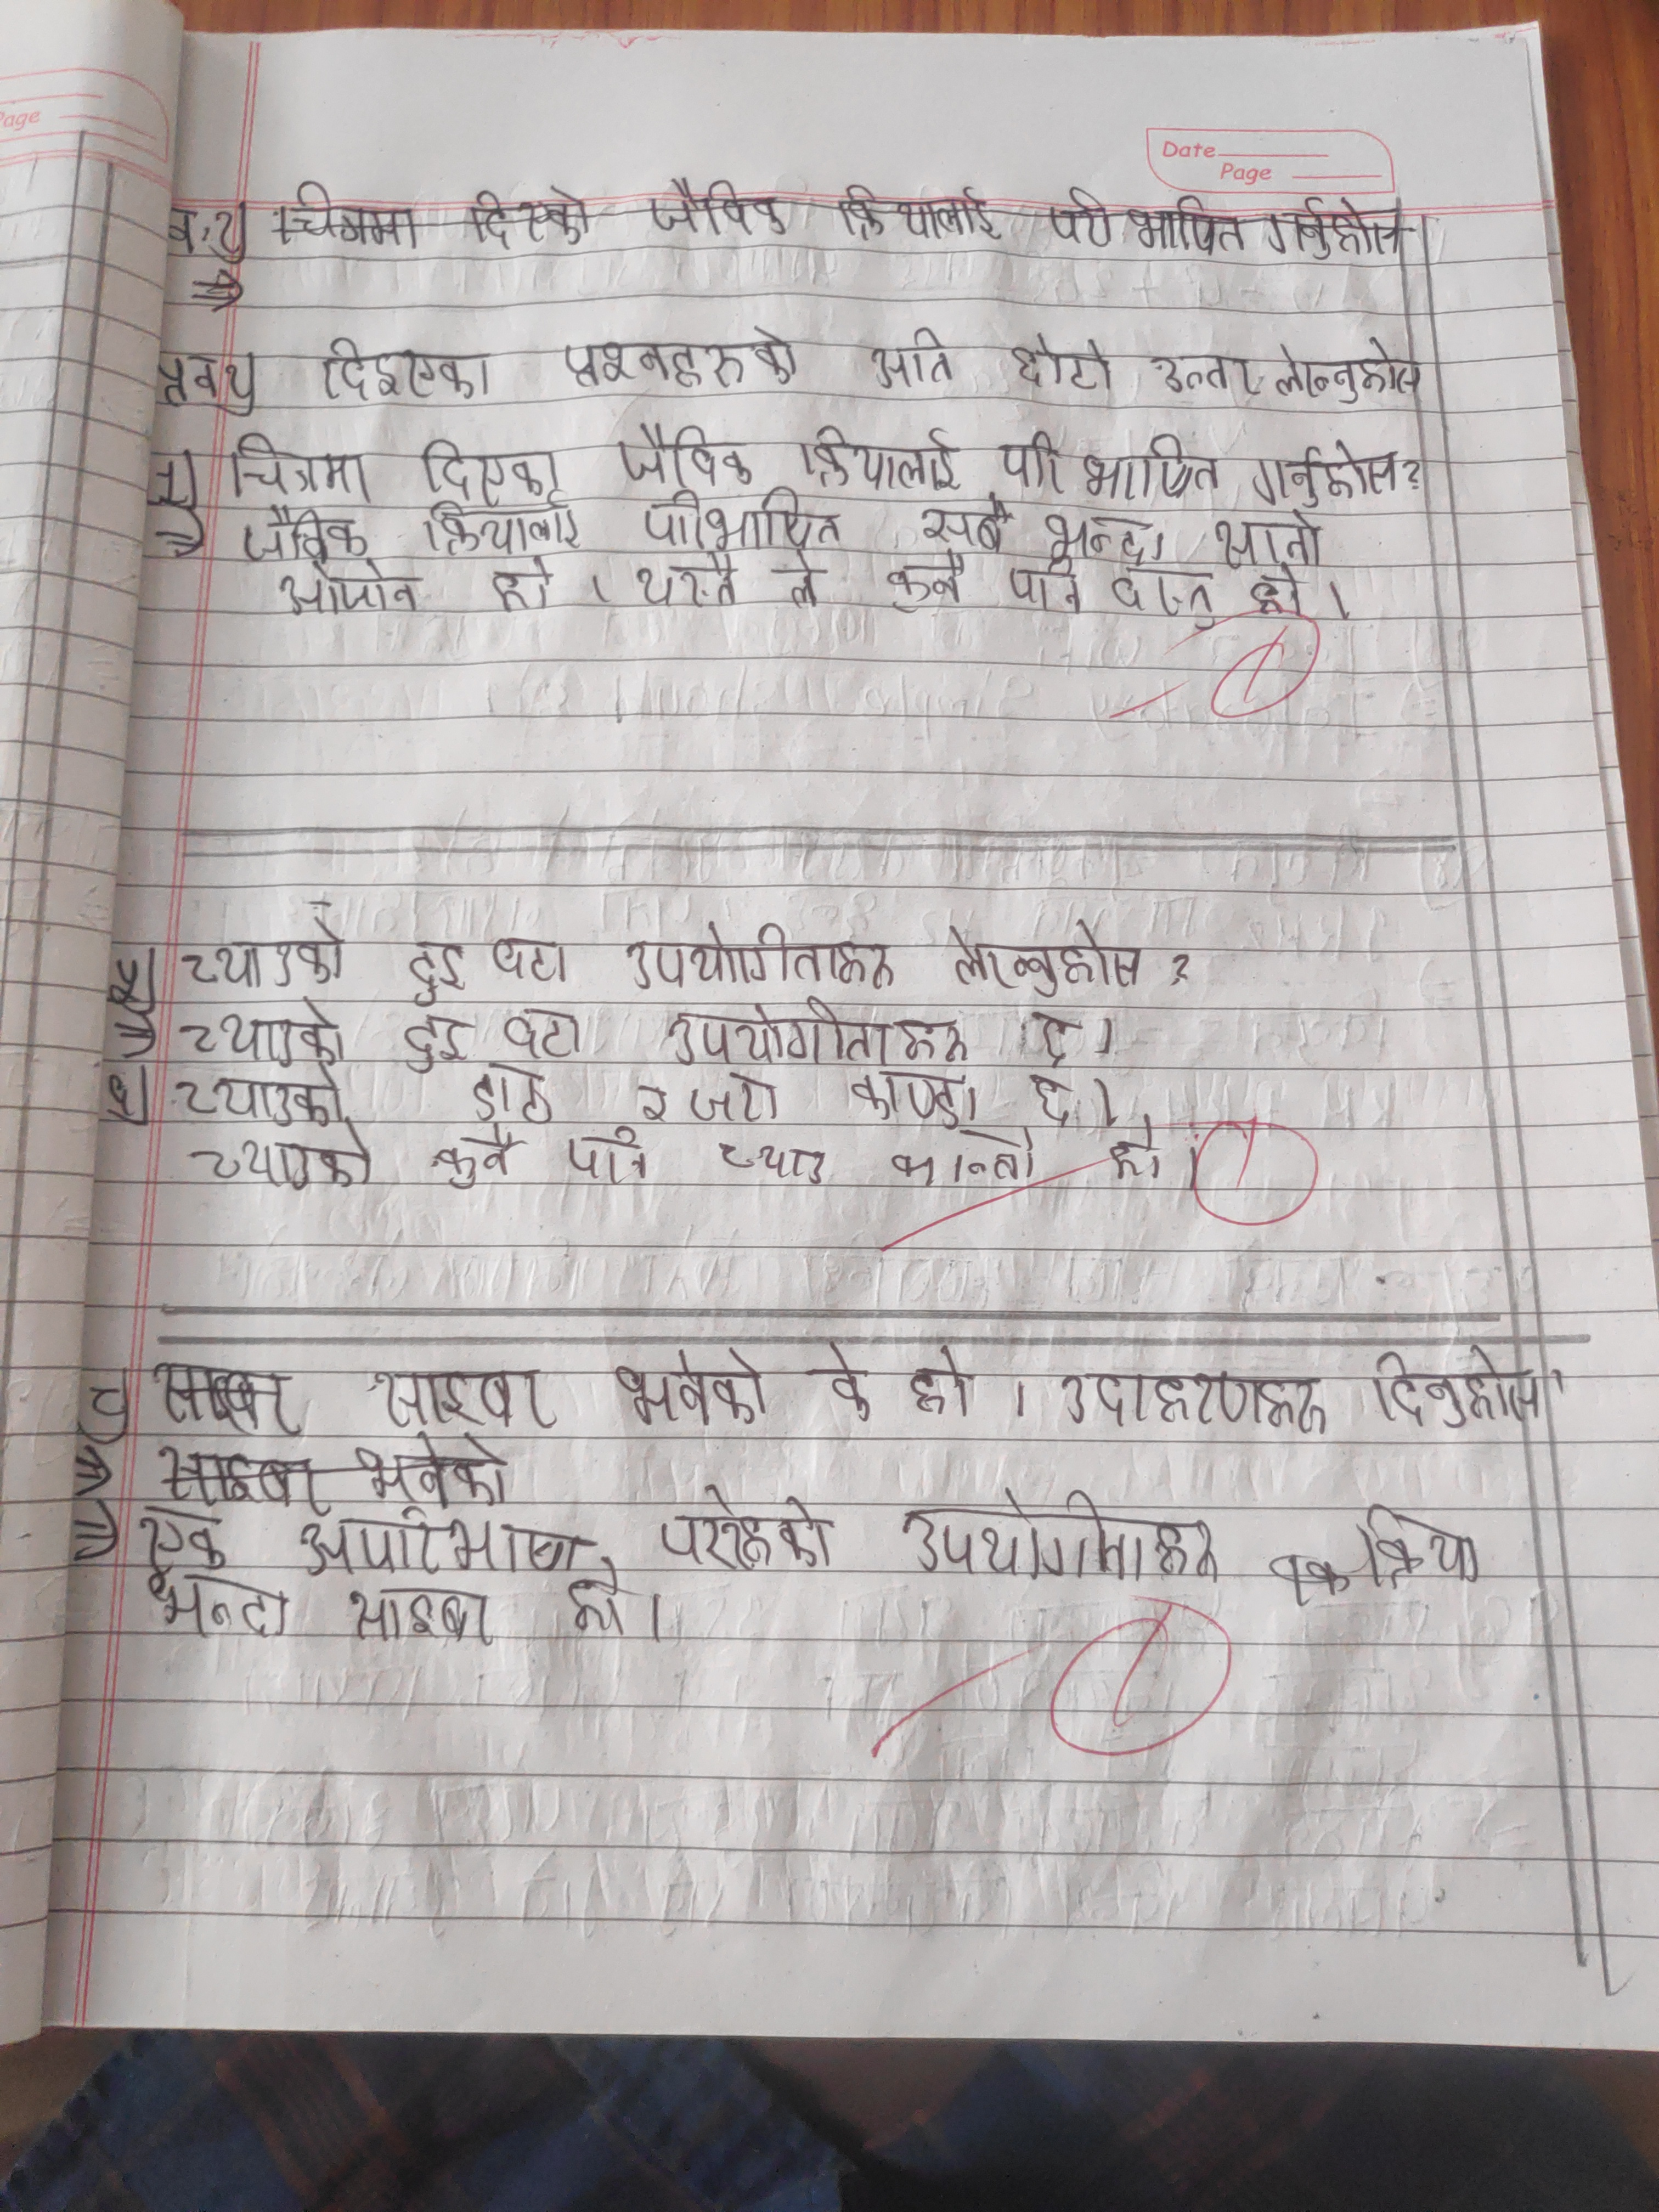text: (899, 1487, 1220, 1585), (627, 918, 896, 996), (666, 1000, 972, 1068), (295, 1507, 587, 1576), (1056, 1367, 1330, 1439), (1364, 1348, 1547, 1435), (554, 326, 798, 390), (945, 918, 1145, 996), (657, 1486, 840, 1571), (638, 486, 843, 554), (608, 1346, 769, 1428), (185, 1123, 380, 1190), (369, 1362, 554, 1432), (176, 995, 350, 1068), (179, 914, 343, 989), (315, 336, 493, 404), (225, 427, 373, 503), (1270, 340, 1429, 411), (798, 423, 960, 493), (1352, 1503, 1485, 1587), (1249, 437, 1398, 507), (173, 1064, 345, 1123), (615, 420, 758, 491), (141, 1571, 289, 1639), (1082, 434, 1222, 505), (345, 1583, 498, 1648), (845, 1062, 985, 1130), (420, 439, 565, 503), (415, 500, 586, 554), (277, 557, 422, 618), (896, 1127, 1040, 1188), (235, 502, 376, 563), (1040, 509, 1173, 568), (155, 350, 263, 420), (1110, 568, 1225, 632), (1140, 345, 1263, 402), (1213, 512, 1328, 571), (132, 1507, 232, 1575), (631, 554, 751, 610), (716, 1130, 835, 1186), (1009, 331, 1119, 390), (864, 326, 957, 394), (565, 1559, 633, 1642), (906, 1343, 978, 1421), (878, 554, 967, 617), (559, 1123, 652, 1183), (401, 932, 471, 1010), (687, 1069, 786, 1123), (434, 1127, 519, 1190), (918, 500, 1014, 554), (995, 425, 1066, 496), (502, 1003, 589, 1061), (816, 1339, 877, 1420), (472, 1066, 554, 1125), (403, 1010, 472, 1078), (1006, 557, 1086, 613), (490, 935, 572, 989), (486, 557, 559, 611), (1246, 564, 1310, 620), (779, 550, 830, 615), (1110, 1120, 1159, 1183), (1032, 1071, 1080, 1127), (1028, 1012, 1077, 1066), (633, 1080, 674, 1116)
